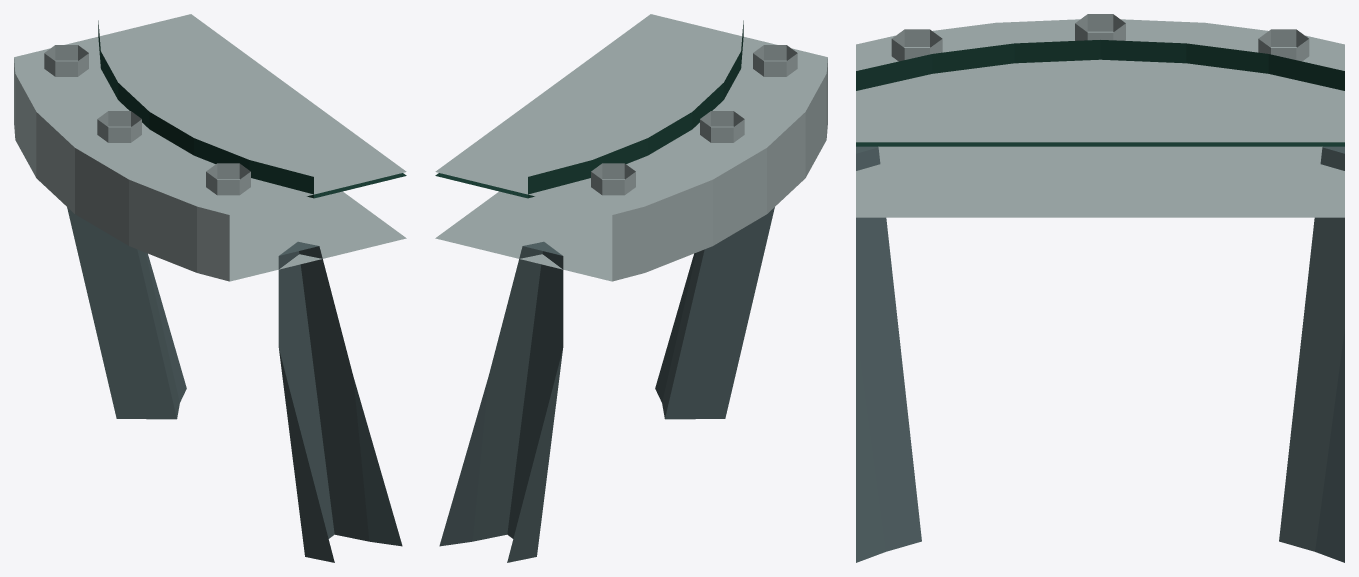
Rendered from cell_30.obj.
3 views of the same model, side by side, from view 1: azimuth 30°, elevation 25°; view 2: azimuth 150°, elevation 25°; view 3: azimuth 270°, elevation 25° (orthographic). The views are drawn at different scales.
Size of the model in its own units: 0.6 by 1 by 1.
